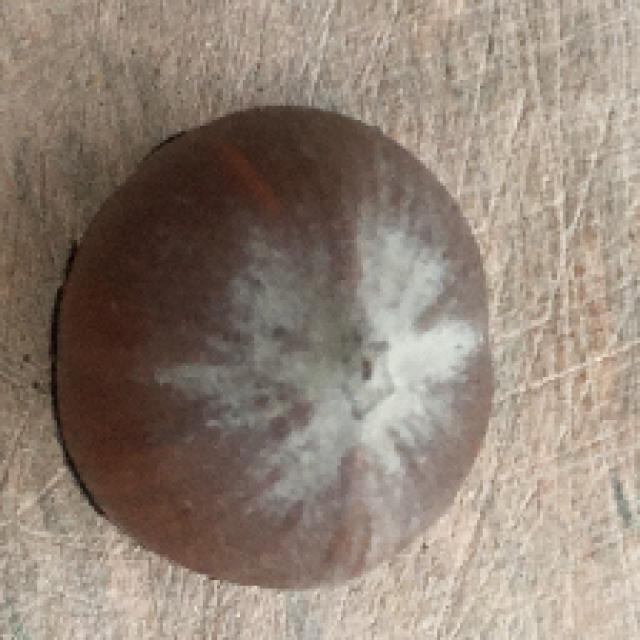damagedHazelnut: (53, 103, 502, 591)
